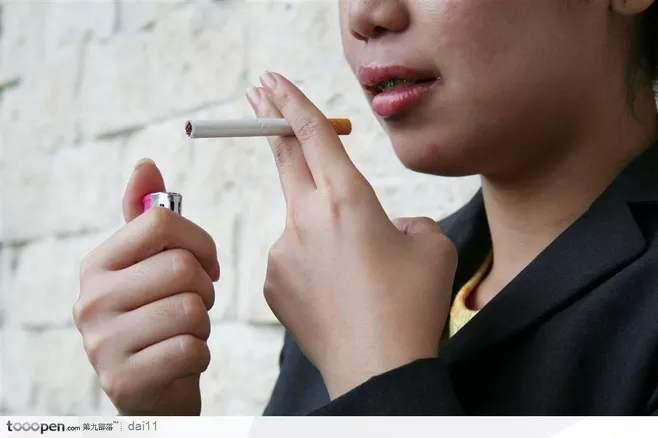Cigarette: (184, 115, 354, 139)
